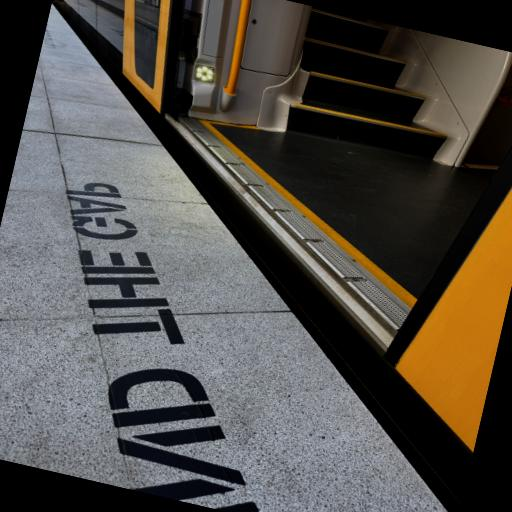gap: (52, 0, 472, 512)
